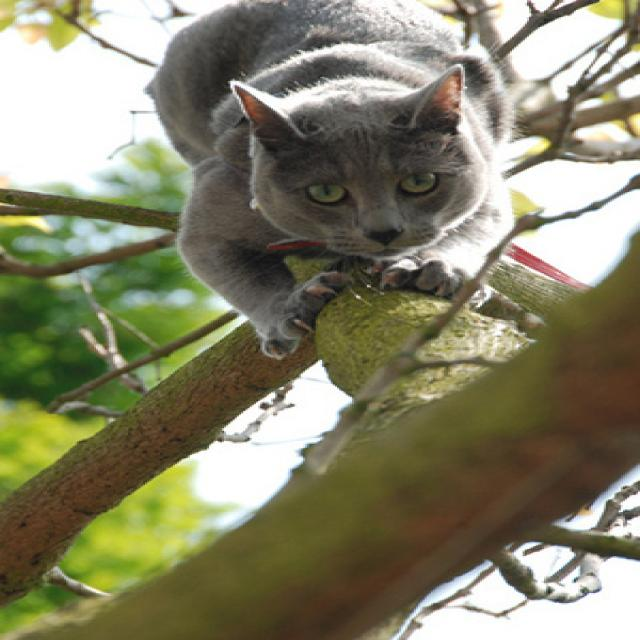Russian Blue: (138, 0, 518, 358)
